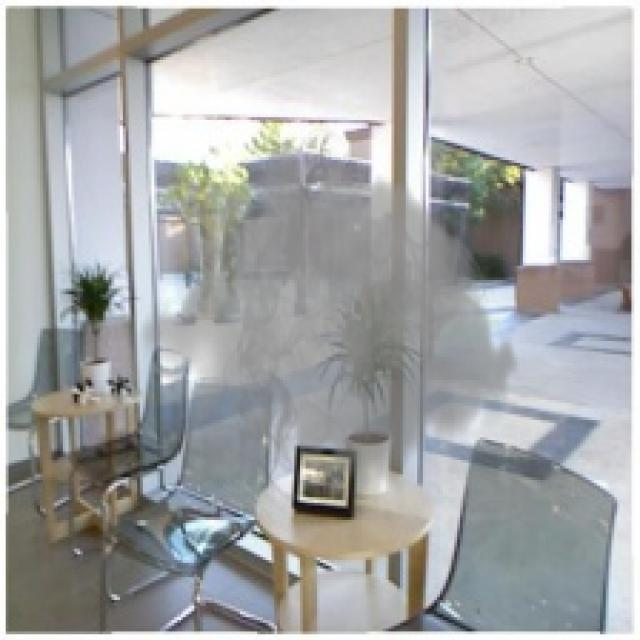Smoke: (137, 125, 520, 520)
